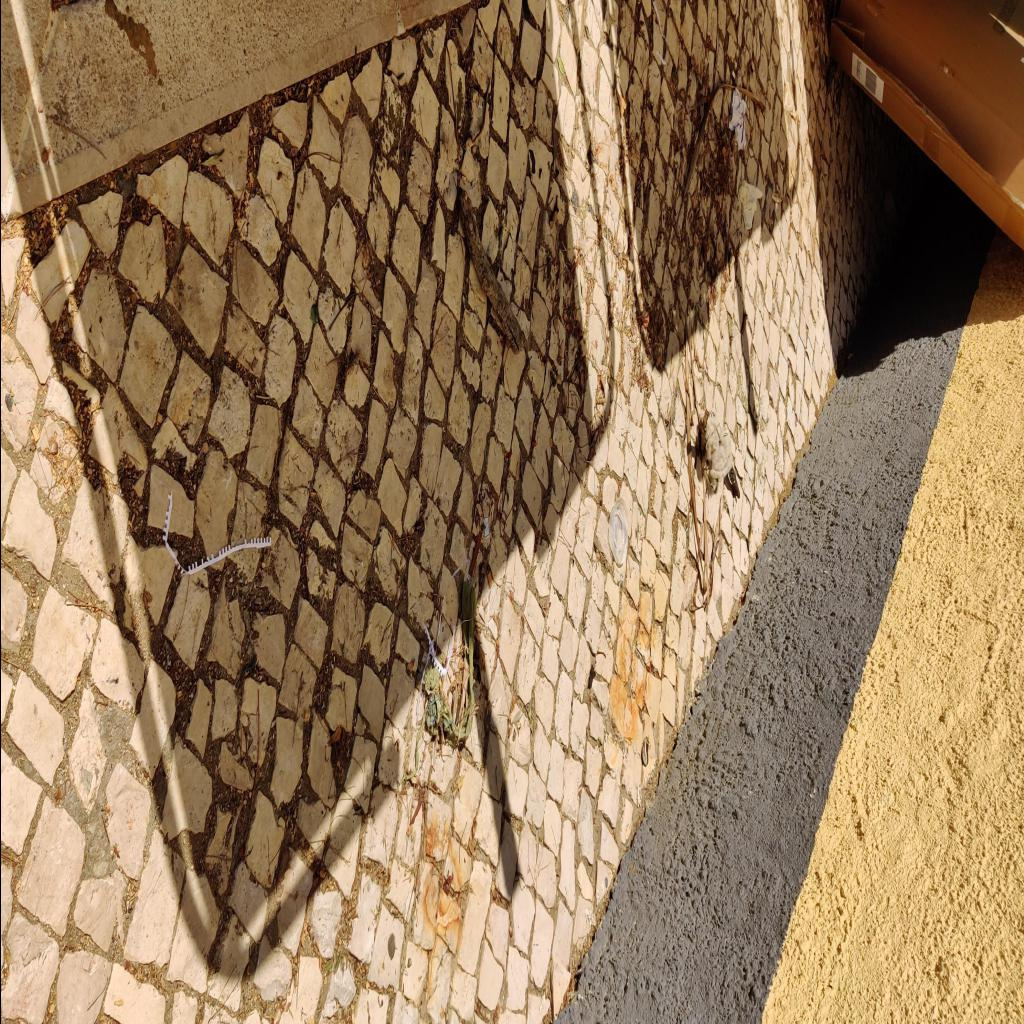Cigarette: (486, 568, 492, 589)
Corrugated carton: (829, 1, 1023, 252)
Metal bottle cap: (641, 742, 648, 766)
Normal paper: (161, 494, 271, 576), (414, 618, 454, 730), (727, 89, 745, 149)
Plastic lid: (608, 498, 628, 564)
Unlabeled litter: (704, 409, 730, 483), (484, 516, 488, 538)
